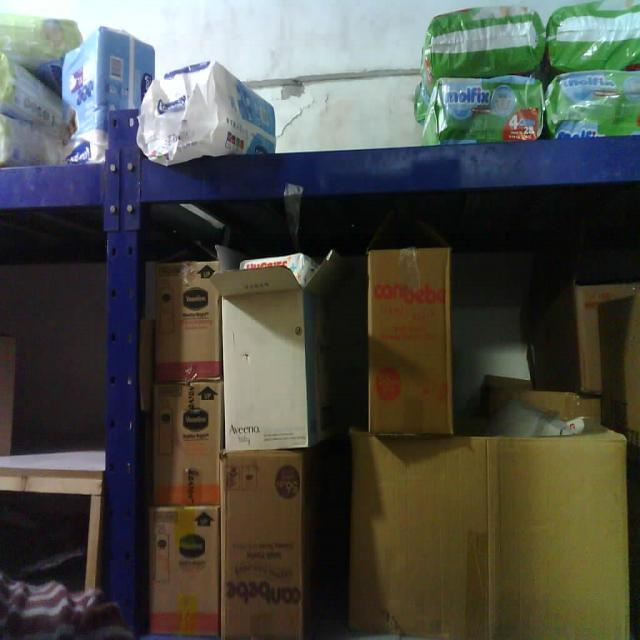cardboxes: (350, 431, 632, 640), (368, 245, 453, 438), (222, 450, 304, 640), (148, 504, 222, 640), (149, 262, 222, 386), (151, 380, 224, 504)
